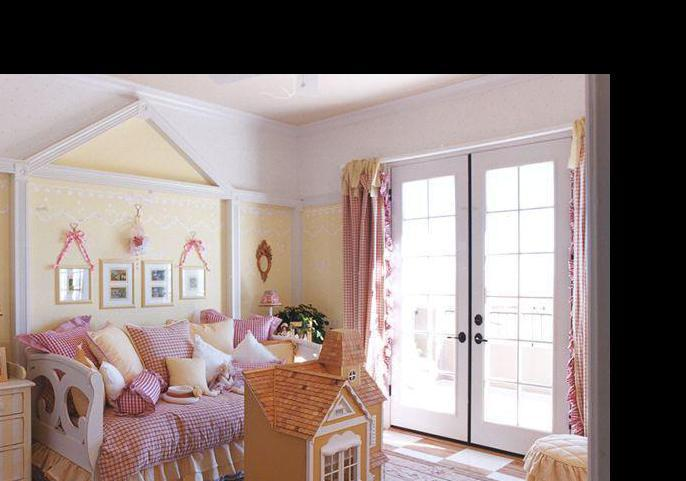Otro Obstaculo: (236, 349, 381, 481)
Puerta: (383, 138, 576, 435)
